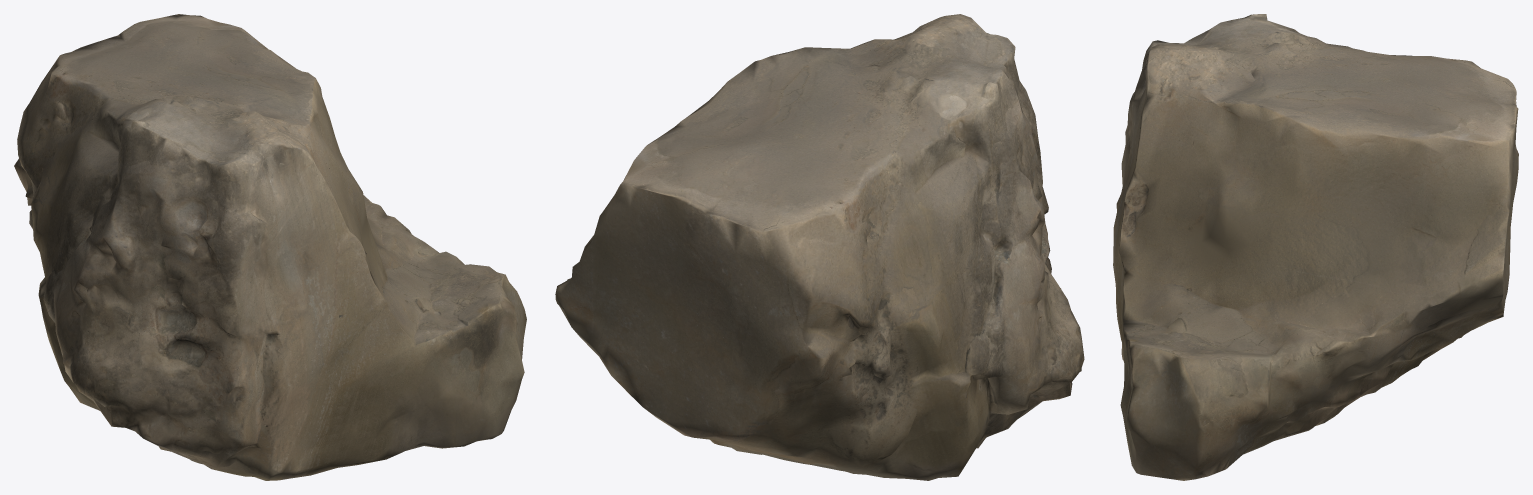
The model's file is vmkicct_tier_2.gltf.
The picture shows the model from 3 angles, left to right: view 1: azimuth 30°, elevation 25°; view 2: azimuth 150°, elevation 25°; view 3: azimuth 270°, elevation 25°; orthographic projection. The views are drawn at different scales.
Parts seen in each view (by area): view 1: vmkicct_LOD0_TIER2_000; view 2: vmkicct_LOD0_TIER2_000; view 3: vmkicct_LOD0_TIER2_000.
Boxes of the visible parts, box(x1,y1,x2,y2) form: vmkicct_LOD0_TIER2_000: box(14, 14, 526, 480); vmkicct_LOD0_TIER2_000: box(555, 14, 1084, 480); vmkicct_LOD0_TIER2_000: box(1113, 14, 1518, 480).
Bounding box in the file's own units: 2.58 × 2.02 × 2.25.
Materials: 1 (1 with a texture image).
